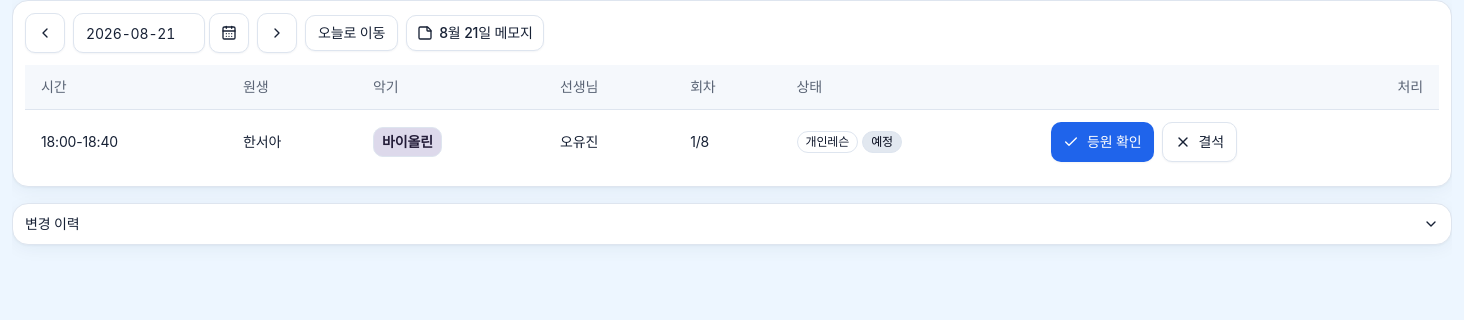
Test case: PrivateLessonDayView › 변경 이력은 접이식 섹션으로, 이력이 주어졌고 관리 권한일 때만 보여 준다
Expected: the text "출석 확인 취소 기록" is not shown
Click the button "변경 이력": coordinates (52, 223) x1=13 y1=204 x2=1451 y2=244
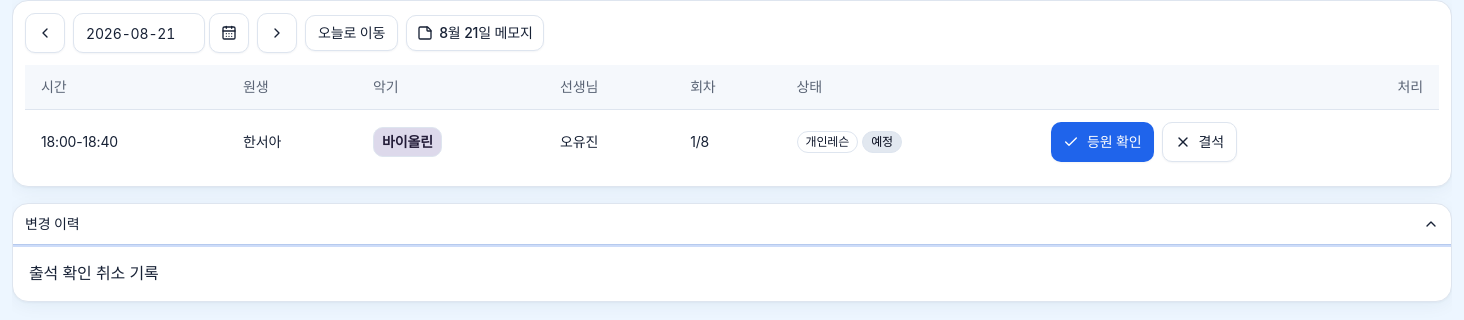
Expected: the text "출석 확인 취소 기록" is shown, x1=29 y1=262 x2=158 y2=282
